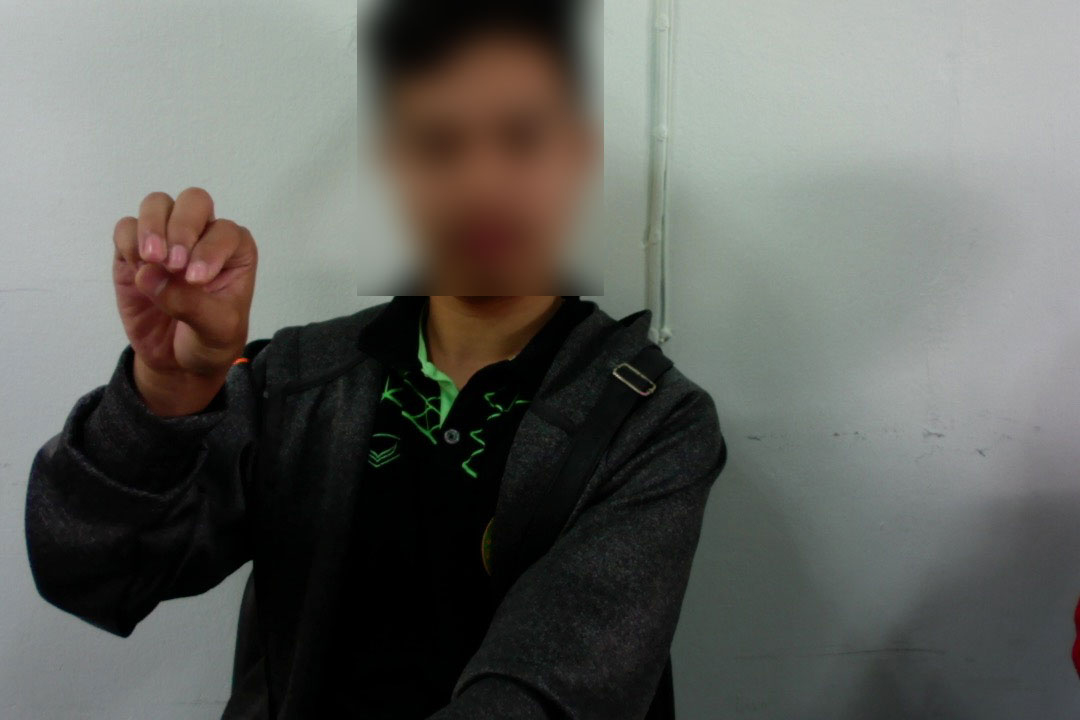mor: (99, 177, 263, 383)
